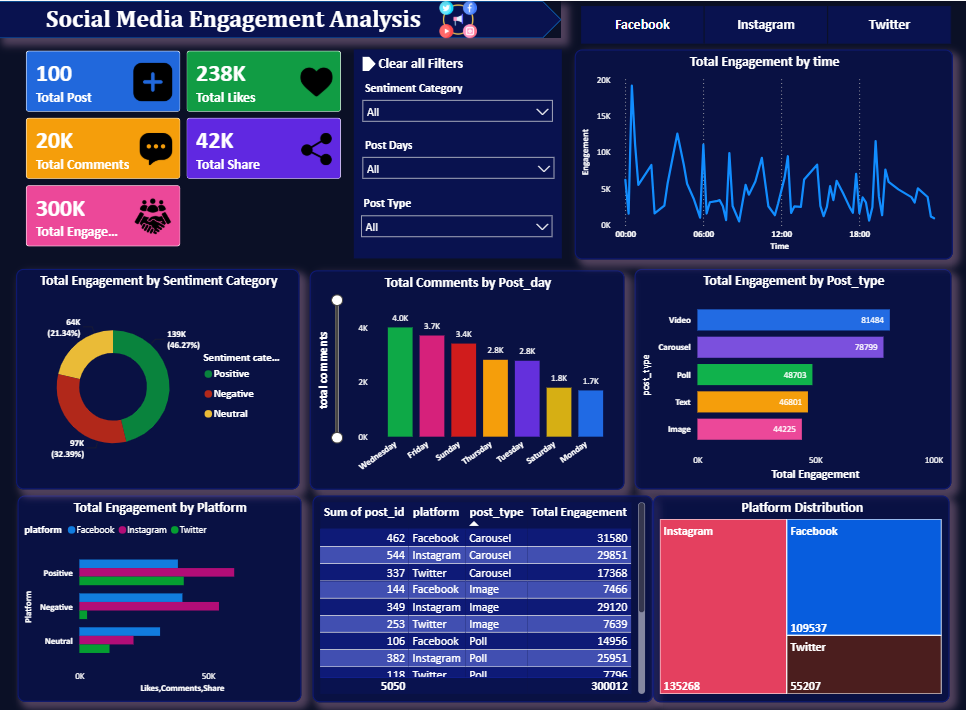

This screenshot's page, from the dashboard's own definition file:
{"tool":"powerbi","page":{"name":"Page 1","canvas":[1300,950],"ordinal":0},"visuals":[{"type":"shape","box":[0,0,753.8,50],"z":0},{"type":"cardVisual","fields":{"Data":["social_media_engagement1.total post","social_media_engagement1.total likes","social_media_engagement1.total comments","social_media_engagement1.total shares","social_media_engagement1.Total Engagement"]},"box":[20,50,456,296],"z":1000},{"type":"donutChart","title":"Total Engagement by Sentiment Category","fields":{"Category":["social_media_engagement1.sentiment_score"],"Y":["social_media_engagement1.Total Engagement"]},"box":[22,358,379.7,295.1],"z":2000,"group":"g1"},{"type":"clusteredBarChart","title":"Total Engagement by Platform","fields":{"Y":["social_media_engagement1.Total Engagement"],"Category":["social_media_engagement1.sentiment_score"],"Series":["social_media_engagement1.platform"]},"box":[25.6,663.3,380,276.7],"z":2000},{"type":"slicer","fields":{"Values":["social_media_engagement1.platform"]},"box":[755,0,545,63.8],"z":3000},{"type":"barChart","title":"Total Engagement by Post_type","fields":{"Category":["social_media_engagement1.post_type"],"Y":["social_media_engagement1.Total Engagement"]},"box":[850.3,358,424.5,295.1],"z":3000,"group":"g1"},{"type":"group","id":"g1","title":"Group 2","box":[22,74,1252.9,579.7],"z":4000},{"type":"columnChart","title":"Total Comments by Post_day","fields":{"Category":["social_media_engagement1.post_day"],"Y":["social_media_engagement1.total comments"]},"box":[415.3,359.9,421.4,293.8],"z":4000,"group":"g1"},{"type":"lineChart","fields":{"Category":["social_media_engagement1.time"],"Y":["social_media_engagement1.Total Engagement"]},"box":[771.8,64.3,506.5,281.4],"z":5000},{"type":"slicer","fields":{"Values":["social_media_engagement1.post_day"]},"box":[477.6,176.4,276.5,89.7],"z":5000,"group":"g2"},{"type":"textbox","box":[38.6,0,551.5,49.8],"z":6000},{"type":"group","id":"g2","title":"Group 3","box":[476,64.3,278.2,281.4],"z":7000},{"type":"slicer","fields":{"Values":["social_media_engagement1.post_type"]},"box":[476,255.1,276.2,90],"z":7000,"group":"g2"},{"type":"slicer","fields":{"Values":["social_media_engagement1.sentiment_score"]},"box":[477.6,101.3,274.5,91.8],"z":8000,"group":"g2"},{"type":"tableEx","title":"Top 5 Performing Posts","fields":{"Values":["Sum(social_media_engagement1.post_id)","social_media_engagement1.platform","social_media_engagement1.post_type","social_media_engagement1.Total Engagement"]},"box":[420.1,662.6,456.4,276.9],"z":8000},{"type":"shape","box":[487.1,74,18.2,19.4],"z":9000,"group":"g2"},{"type":"treemap","title":"Platform Distribution","fields":{"Group":["social_media_engagement1.platform"],"Values":["social_media_engagement1.Total Engagement"]},"box":[876.5,662.6,397.2,276.9],"z":9000},{"type":"actionButton","box":[648,74,100,40],"z":9002,"group":"g1"},{"type":"image","box":[562.5,0,103.8,50],"z":10000},{"type":"actionButton","box":[504.3,64.3,178.1,36.7],"z":10000,"group":"g2"}]}

Visuals, with their boxes in screenshot pixels (x1, y1, x2, y2), scaled from the page's 1300x950 canvas onto the 966x710 screenshot:
shape: 0 0 560 37
cardVisual - social_media_engagement1.total post x social_media_engagement1.total likes: 15 37 354 259
"Total Engagement by Sentiment Category" donutChart: 16 268 298 488
"Total Engagement by Platform" clusteredBarChart: 19 496 301 703
slicer - social_media_engagement1.platform: 561 0 965 48
"Total Engagement by Post_type" barChart: 632 268 947 488
"Group 2" group: 16 55 947 489
"Total Comments by Post_day" columnChart: 309 269 622 489
lineChart - social_media_engagement1.time x social_media_engagement1.Total Engagement: 574 48 950 258
slicer - social_media_engagement1.post_day: 355 132 560 199
textbox: 29 0 438 37
"Group 3" group: 354 48 560 258
slicer - social_media_engagement1.post_type: 354 191 559 258
slicer - social_media_engagement1.sentiment_score: 355 76 559 144
"Top 5 Performing Posts" tableEx: 312 495 651 702
shape: 362 55 375 70
"Platform Distribution" treemap: 651 495 946 702
actionButton: 482 55 556 85
image: 418 0 495 37
actionButton: 375 48 507 75
